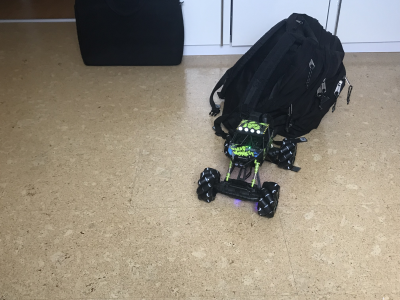remote control car: (193, 116, 300, 220)
